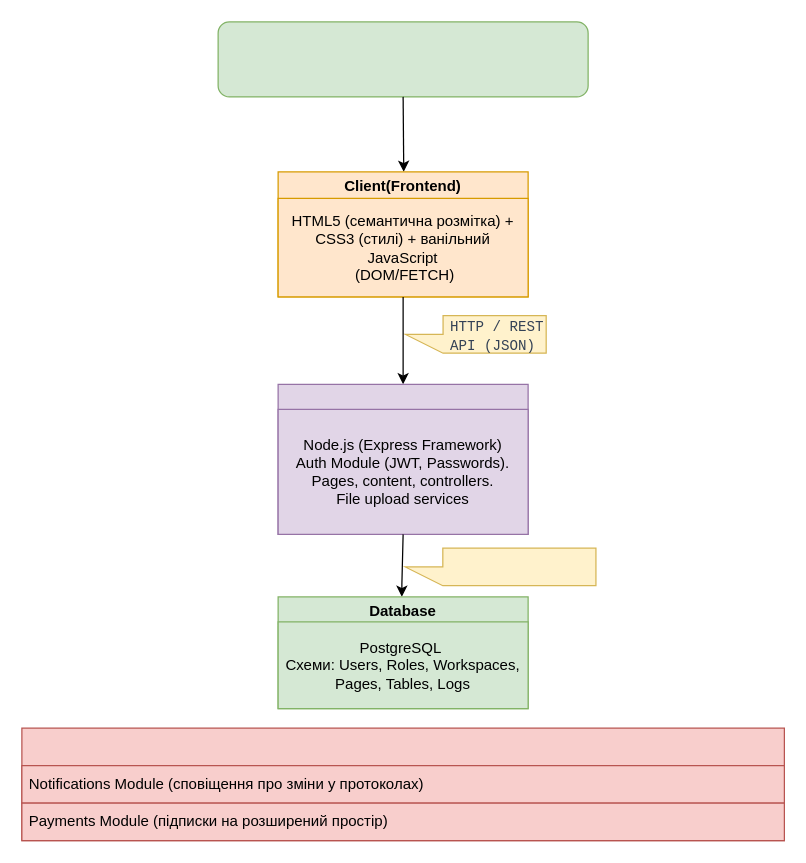
Some shapes in this 806 by 863 pixel diagram are drawn without their labels. The shapes that lost their labels are listed below. From the top down, each one's box as (x1, y1, x2, y2) in pixels, then its label:
(217, 21, 588, 97): Архітектурна діаграма проєкту
(277, 383, 528, 534): Backend
(404, 547, 596, 586): SQL Queries (pg-pool,parameterized)
(21, 727, 784, 841): Перспективні модулі розширення( Future Models)
